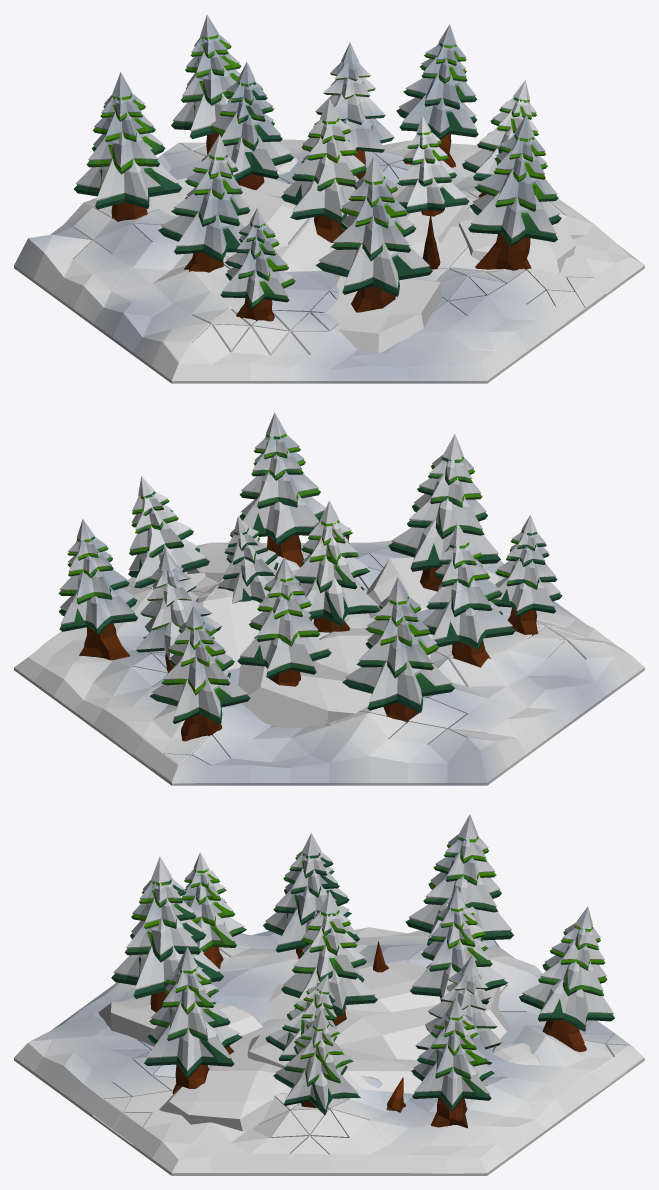
The model's file is tundra.glb.
3 renders of one model, top to bottom at view 1: azimuth 30°, elevation 25°; view 2: azimuth 150°, elevation 25°; view 3: azimuth 270°, elevation 25°, orthographic.
Visible parts, largest first — view 1: tundra; view 2: tundra; view 3: tundra.
Boxes of the visible parts, box(x1,y1,x2,y2) form: tundra: box(14, 15, 644, 383); tundra: box(14, 412, 644, 785); tundra: box(14, 814, 644, 1175).
Bounding box in the file's own units: 1.73 × 0.7117 × 2.
